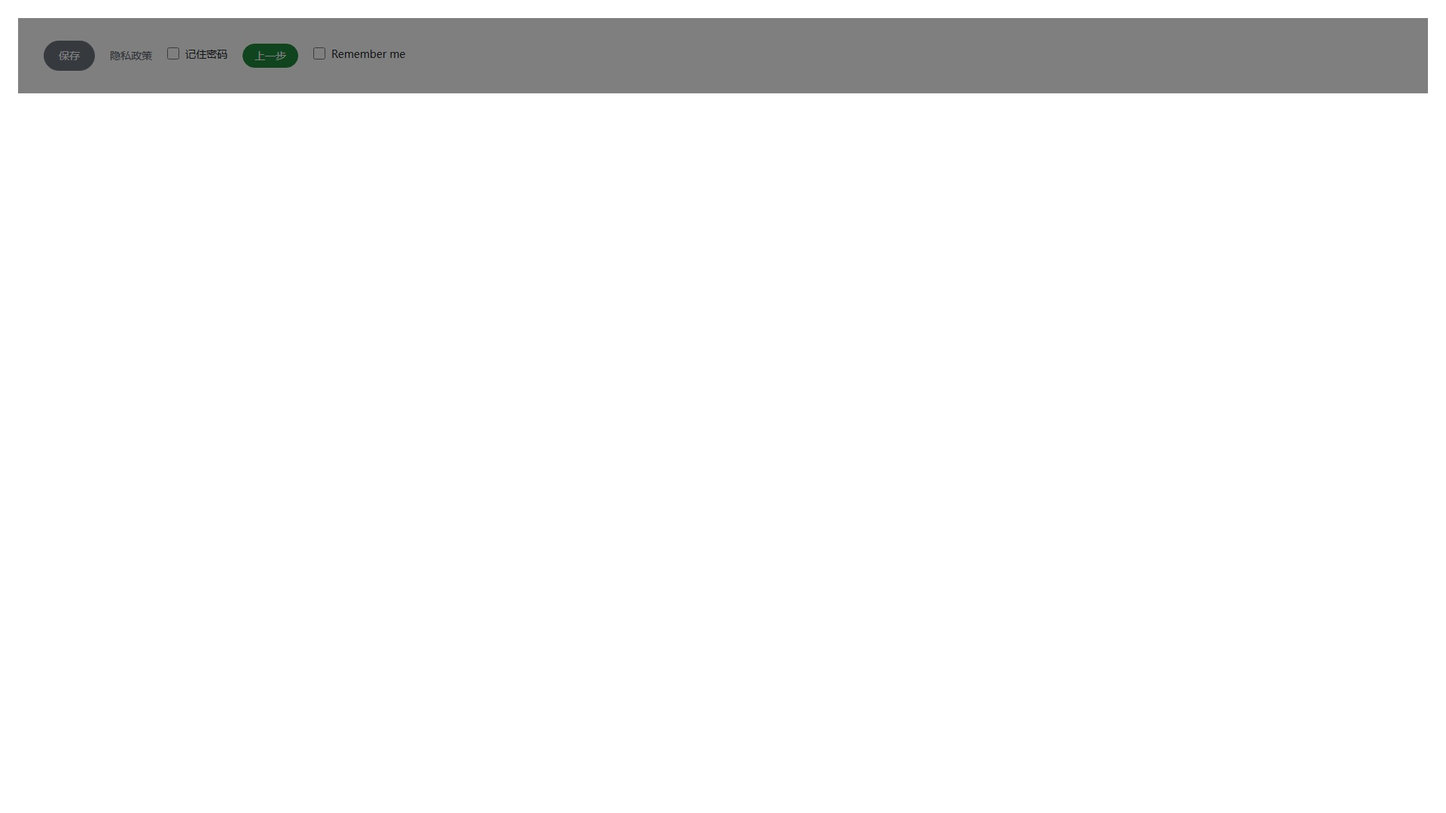button: (44, 41, 95, 71), (243, 44, 298, 68)
checkbox: (167, 47, 179, 59), (313, 47, 325, 59)
icon: (331, 46, 405, 61), (185, 46, 227, 61)
link: (110, 48, 152, 62)
modal: (18, 18, 1428, 93)
radio: (313, 46, 405, 61), (167, 46, 227, 61)
